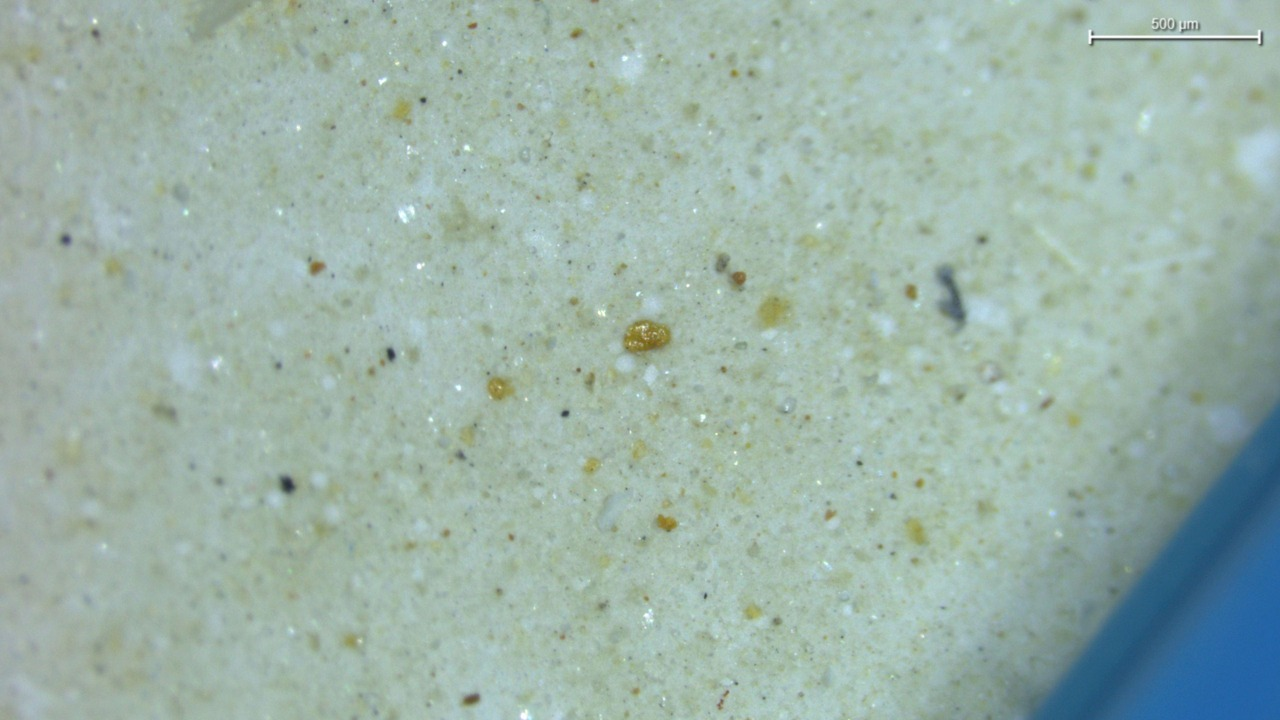microplastic_fragment: (623, 320, 671, 353), (597, 489, 632, 530)
